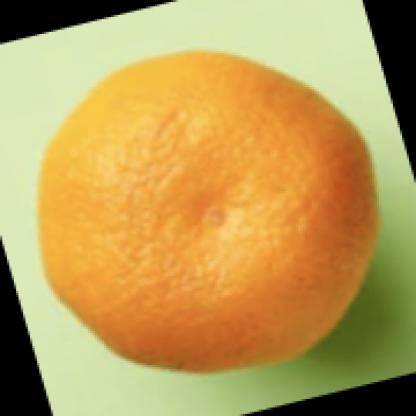orange: (31, 42, 371, 375)
